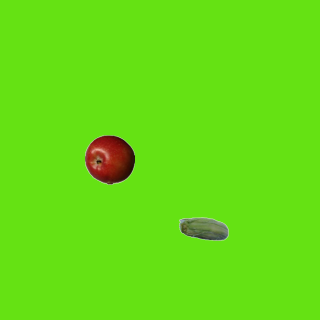Apple Braeburn: (84, 134, 134, 184)
Corn Husk: (178, 205, 228, 255)
